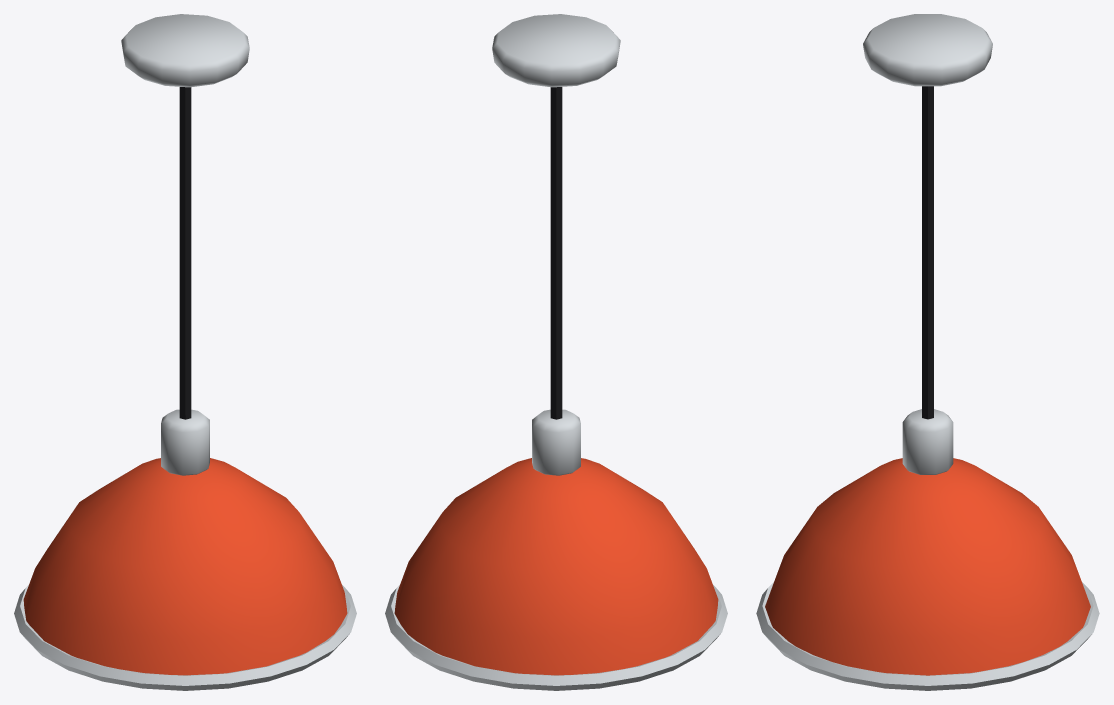
File: Shop_PendantLamp.fbx
3 views of the same model, side by side, from view 1: azimuth 30°, elevation 25°; view 2: azimuth 150°, elevation 25°; view 3: azimuth 270°, elevation 25° (orthographic).
Parts seen in each view (by area): view 1: Shade, Chrome, Cord; view 2: Shade, Chrome, Cord; view 3: Shade, Chrome, Cord.
Part boxes in pixels (x1=…): Shade: x1=23, y1=458, x2=347, y2=675; Chrome: x1=14, y1=14, x2=356, y2=690; Cord: x1=179, y1=87, x2=191, y2=419; Shade: x1=394, y1=458, x2=718, y2=675; Chrome: x1=385, y1=14, x2=727, y2=690; Cord: x1=550, y1=87, x2=562, y2=419; Shade: x1=765, y1=458, x2=1090, y2=675; Chrome: x1=756, y1=14, x2=1099, y2=690; Cord: x1=922, y1=86, x2=933, y2=419.
Size of the model in its own units: 177 by 331 by 177.
